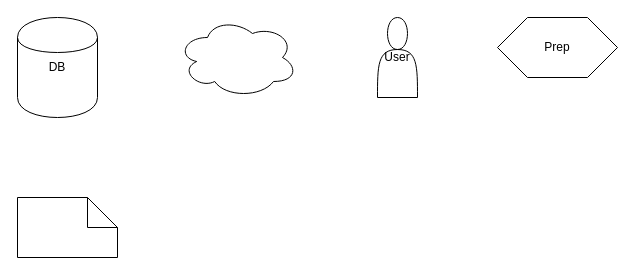
The diagram is 635 pixels wide and 275 high, and some of its shapes have lost their labels. Here are the shapes that lost their labels. From the top down, the box of each, then its label:
(176, 16, 298, 98): Net
(16, 196, 118, 258): Todo
